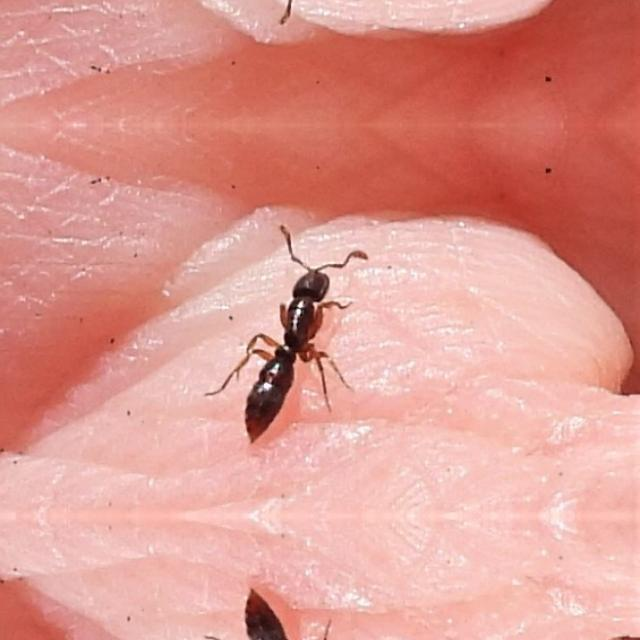Ponera: (207, 231, 379, 455), (207, 576, 379, 640)
